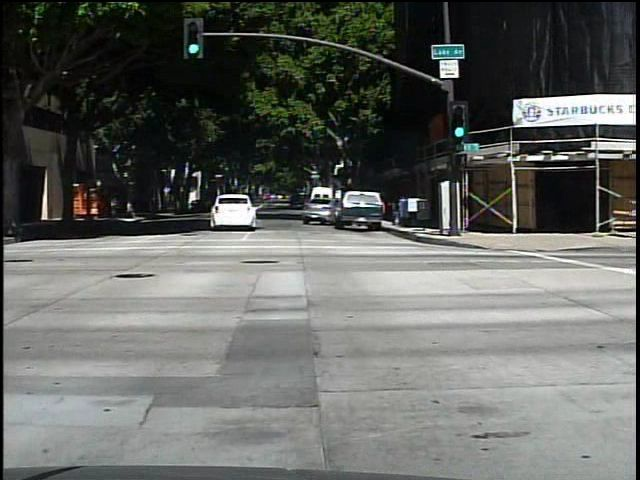person: (104, 187, 121, 221)
